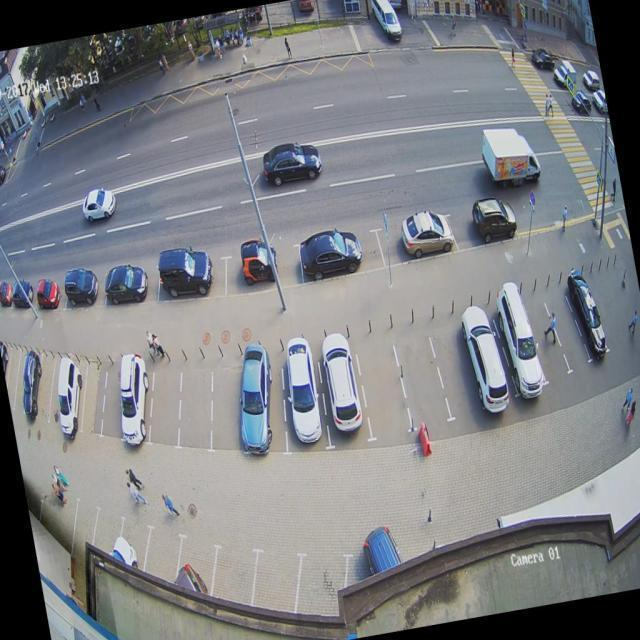space-empty: (353, 330, 411, 444), (196, 353, 259, 453), (426, 323, 486, 422), (511, 287, 569, 387), (166, 354, 226, 448), (135, 355, 196, 446), (65, 359, 123, 448), (541, 286, 594, 377), (90, 357, 136, 440), (0, 344, 46, 425), (38, 358, 78, 440), (25, 360, 63, 427), (0, 343, 31, 421)
space-occupied: (450, 299, 515, 417), (228, 350, 298, 458), (308, 334, 371, 452), (486, 293, 551, 407), (273, 343, 334, 458), (391, 327, 449, 437), (108, 360, 173, 450), (376, 212, 461, 267), (225, 243, 303, 300), (569, 275, 610, 375), (304, 233, 385, 282), (50, 358, 97, 441), (12, 347, 60, 427), (158, 253, 228, 305), (448, 197, 514, 251), (59, 271, 110, 317), (107, 269, 162, 305), (31, 282, 68, 313)
